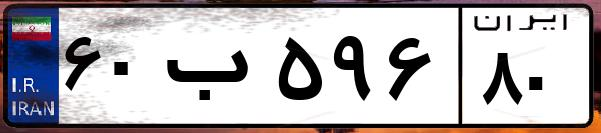0: (525, 38, 570, 115), (110, 28, 158, 98)
5: (270, 28, 330, 110)
6: (385, 28, 445, 110), (57, 26, 110, 100)
8: (475, 38, 525, 113)
9: (330, 28, 385, 110)
ب: (158, 20, 270, 120)
